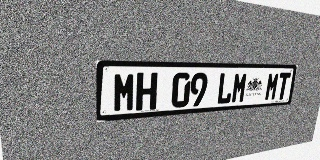0: (171, 73, 191, 108)
9: (189, 73, 208, 107)
H: (136, 73, 158, 111)
L: (216, 73, 234, 105)
M: (113, 73, 136, 113), (231, 73, 248, 103), (264, 73, 280, 101)
T: (276, 73, 291, 100)
